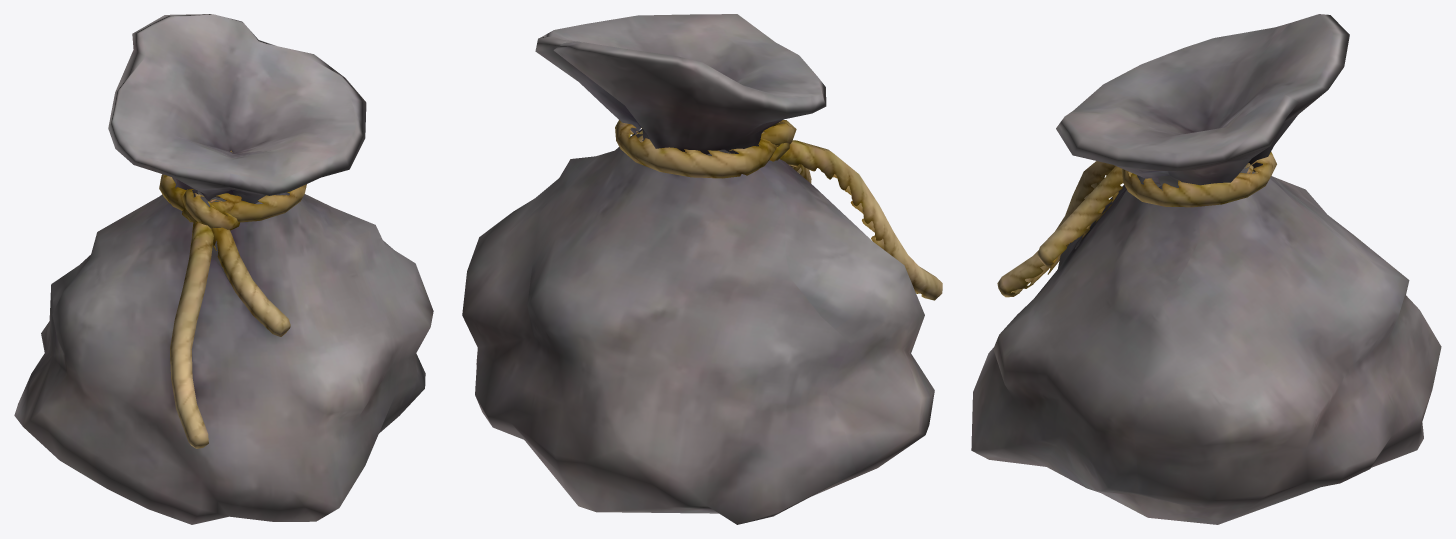
3 renders of one model, left to right at view 1: azimuth 30°, elevation 25°; view 2: azimuth 150°, elevation 25°; view 3: azimuth 270°, elevation 25°, orthographic. The views are drawn at different scales.
Visible parts, largest first — view 1: SM_Mineral_Bag_01_LOD0; view 2: SM_Mineral_Bag_01_LOD0; view 3: SM_Mineral_Bag_01_LOD0.
Part boxes in pixels (x1,y1,x2,y2): SM_Mineral_Bag_01_LOD0: (14,14,433,524); SM_Mineral_Bag_01_LOD0: (462,14,942,524); SM_Mineral_Bag_01_LOD0: (971,14,1441,524).
Bounding box in the file's own units: 0.3249 × 0.315 × 0.3079.
Materials: 1 (1 with a texture image).
